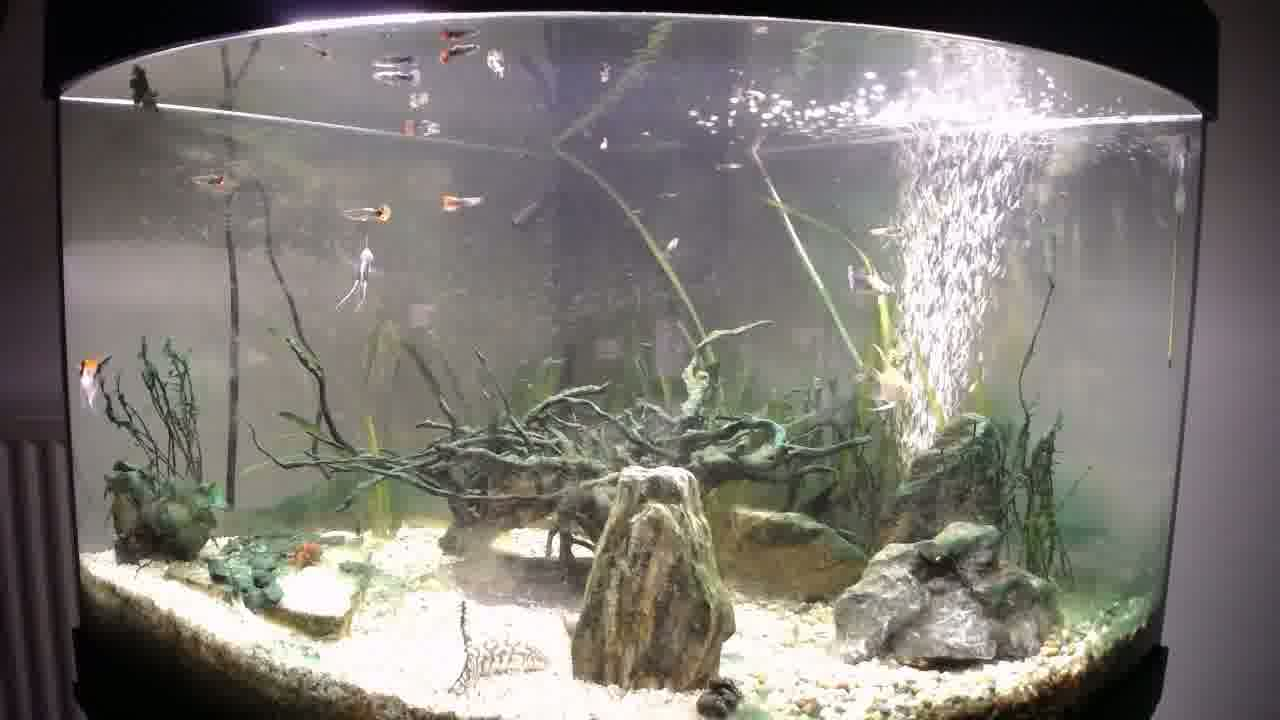Ancistrus: (282, 536, 331, 577)
Botia_Almorhae: (448, 636, 552, 698)
Corydoras_Albinos: (222, 593, 269, 640)
Corydoras_Panda: (548, 602, 580, 642)
G_Matriarche: (843, 260, 894, 303)
Pterophyllum_Scalare_B: (795, 481, 852, 529)
Pterophyllum_Scalare_BB: (333, 241, 377, 314)
Pterophyllum_Scalare_W: (1155, 131, 1197, 179)
Pterophyllum_Scalare_Y: (863, 340, 917, 414)
Pterophyllum_Scalare_YWB: (73, 350, 115, 419)
